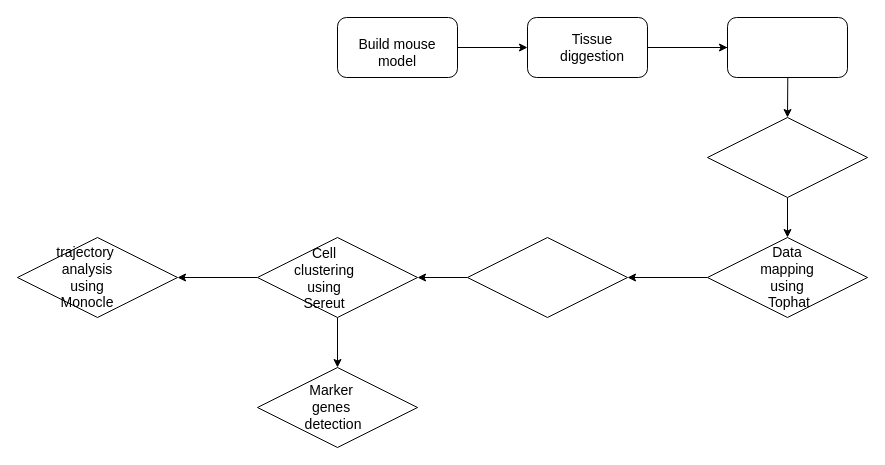
The diagram is 885 pixels wide and 465 high, and some of its shapes have lost their labels. Each missing label, with the centre of its shape:
"Data quality control and filtering" goes at (x=787, y=157).
"Gene expression calculate with RPKM" goes at (x=547, y=277).
"single cell RNAseq" goes at (x=787, y=47).
